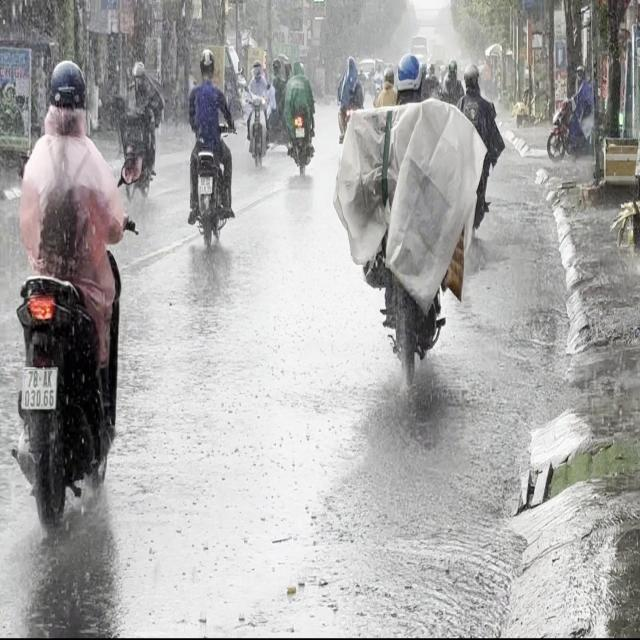helmet: (46, 58, 87, 134), (393, 51, 422, 101), (462, 60, 480, 92), (198, 47, 214, 78)
licenseplate: (7, 55, 132, 530), (334, 43, 498, 398), (183, 46, 235, 248)
nohelmet: (23, 368, 56, 407), (198, 176, 212, 193)
